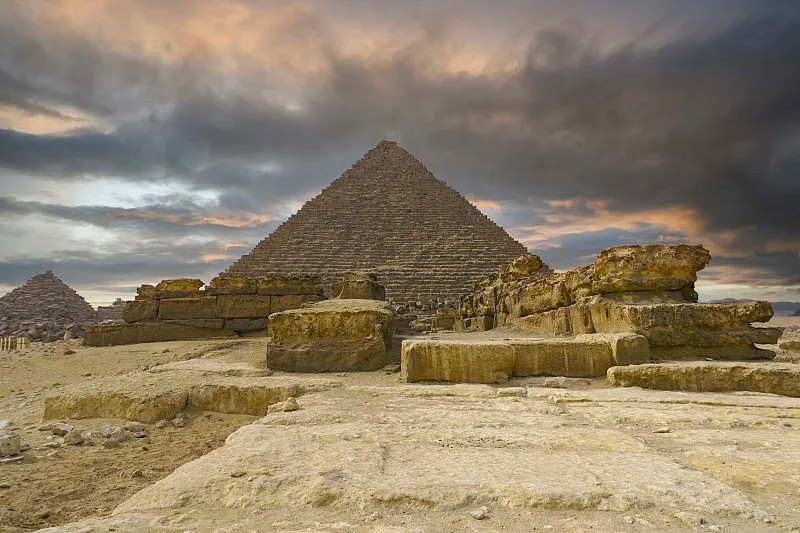Pyramid: (203, 141, 530, 310), (1, 271, 98, 343)
